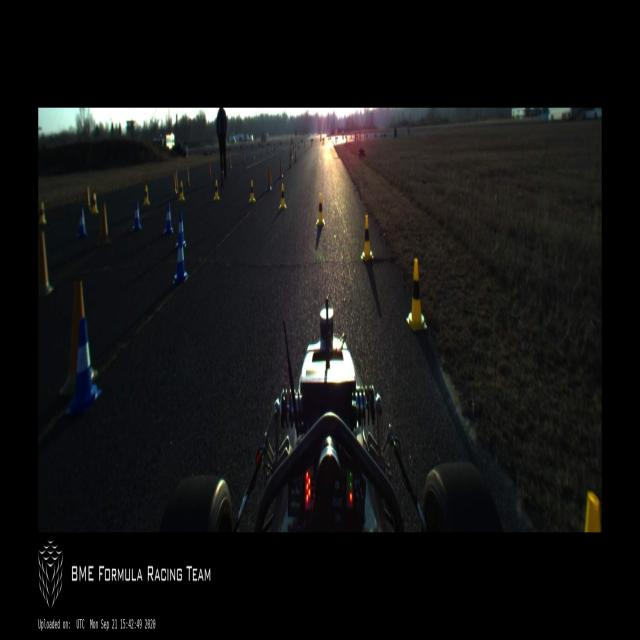blue_cone: (68, 318, 102, 414), (174, 233, 188, 284), (176, 210, 186, 248), (164, 203, 174, 235), (132, 202, 142, 232), (78, 210, 88, 238)
yellow_cone: (406, 258, 427, 329), (361, 215, 374, 262), (316, 192, 325, 226), (279, 182, 286, 210), (212, 178, 220, 200), (249, 179, 256, 203), (178, 180, 185, 202), (143, 183, 150, 205), (91, 192, 98, 214), (39, 202, 46, 223)
